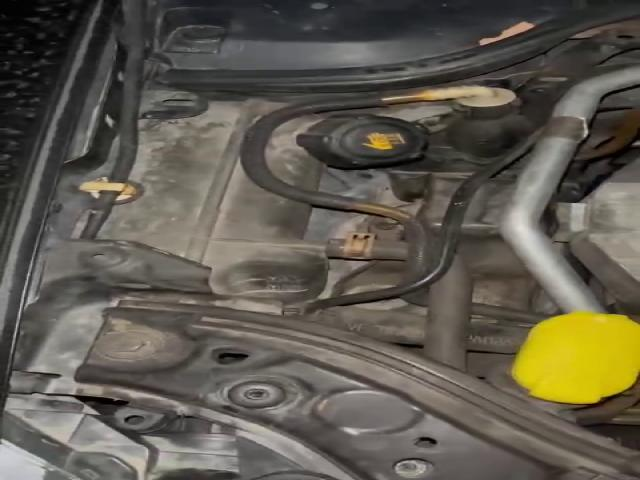antifreeze_tank: (104, 99, 327, 302), (265, 113, 426, 190)
